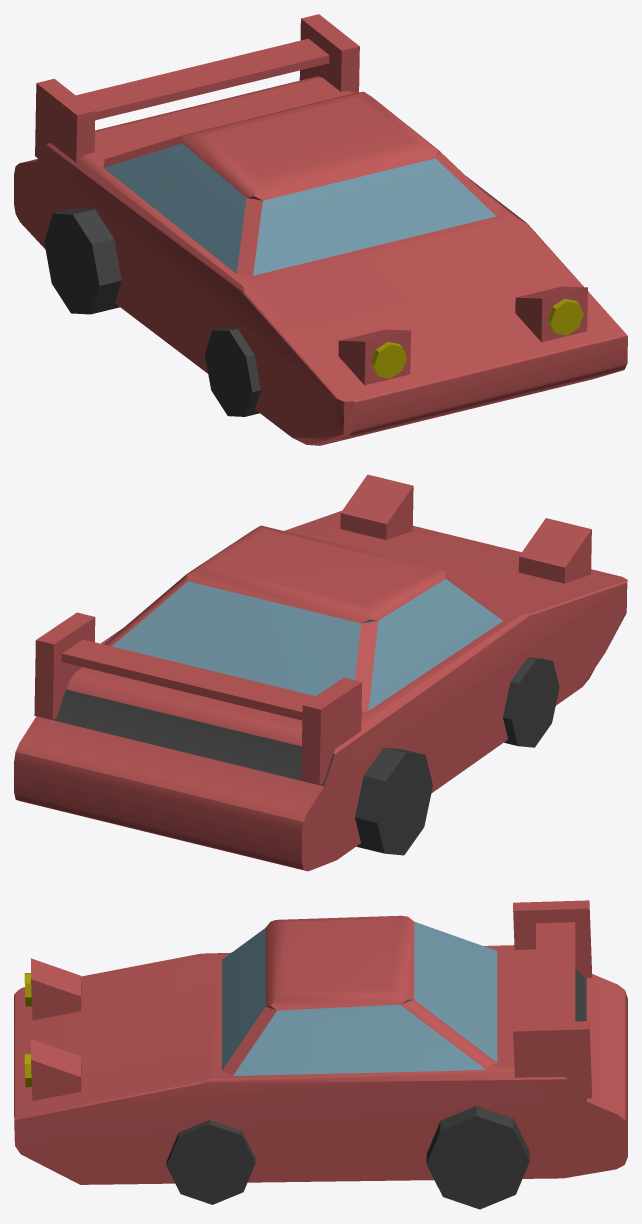
File: PlayerCar.fbx
3 renders of one model, top to bottom at view 1: azimuth 30°, elevation 25°; view 2: azimuth 150°, elevation 25°; view 3: azimuth 270°, elevation 25°, orthographic. The views are drawn at different scales.
Visible parts, largest first — view 1: polySurface1; view 2: polySurface1; view 3: polySurface1.
Boxes of the visible parts, <box> form: polySurface1: <box>14,14,627,445</box>; polySurface1: <box>14,474,627,871</box>; polySurface1: <box>14,900,627,1209</box>.
Bounding box in the file's own units: 42.26 × 23.65 × 72.87.
